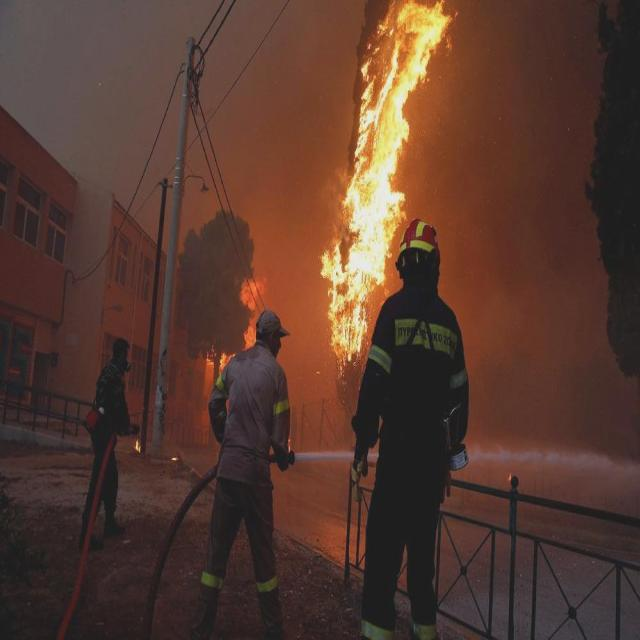Fire: (314, 8, 460, 371), (205, 261, 270, 380)
